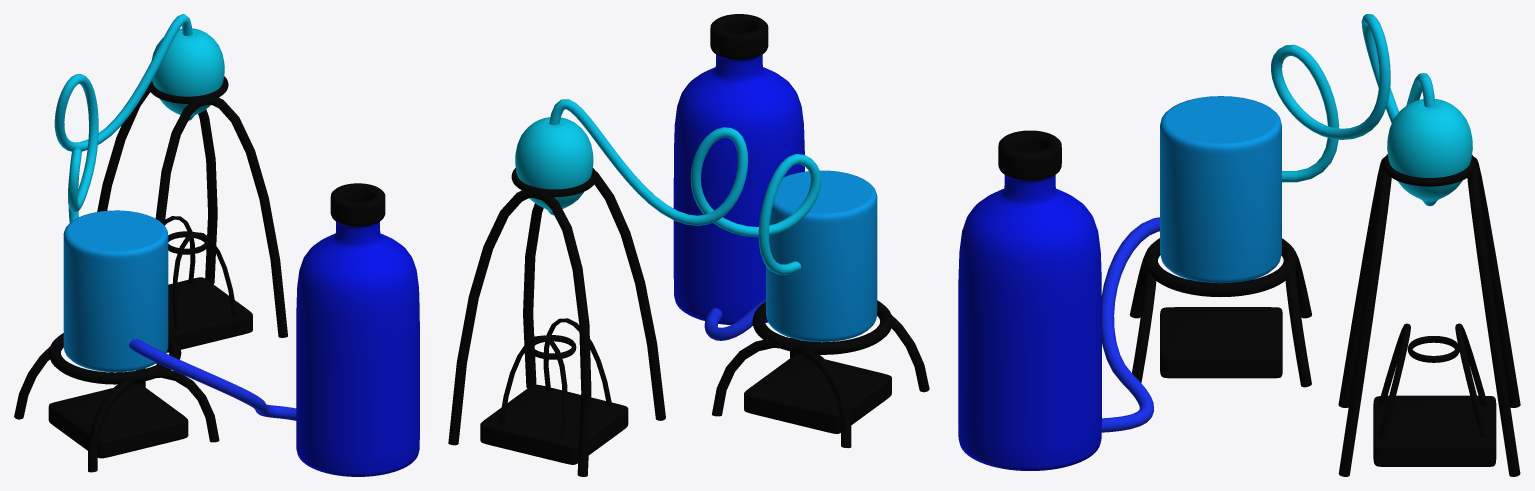
Rendered from distiller.fbx.
3 views of the same model, side by side, from view 1: azimuth 30°, elevation 25°; view 2: azimuth 150°, elevation 25°; view 3: azimuth 270°, elevation 25° (orthographic). The views are drawn at different scales.
Parts seen in each view (by area): view 1: Bottle3, Bottle2, Bottle; view 2: Bottle, Bottle2, Bottle3; view 3: Bottle3, Bottle2, Bottle.
Part boxes in pixels (bbox=[...]): Bottle3: bbox=[296, 183, 419, 476]; Bottle2: bbox=[14, 210, 296, 472]; Bottle: bbox=[54, 14, 287, 364]; Bottle: bbox=[448, 99, 821, 476]; Bottle2: bbox=[704, 170, 929, 448]; Bottle3: bbox=[673, 14, 804, 324]; Bottle3: bbox=[958, 130, 1101, 470]; Bottle2: bbox=[1101, 96, 1311, 432]; Bottle: bbox=[1271, 14, 1520, 476].
Bounding box in the file's own units: 482 × 501 × 700.
